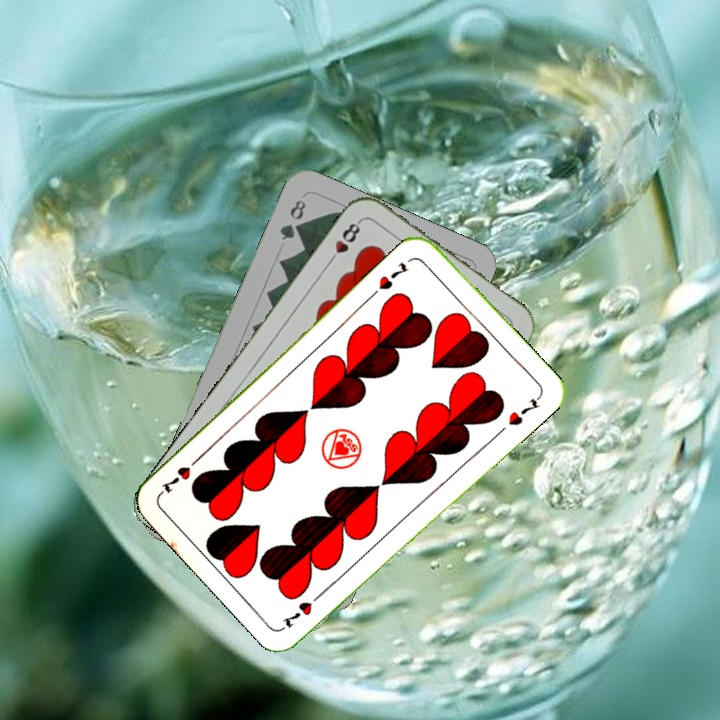G8: (275, 195, 309, 243)
H7: (278, 586, 327, 631), (374, 258, 412, 293)
H8: (324, 216, 364, 267)
